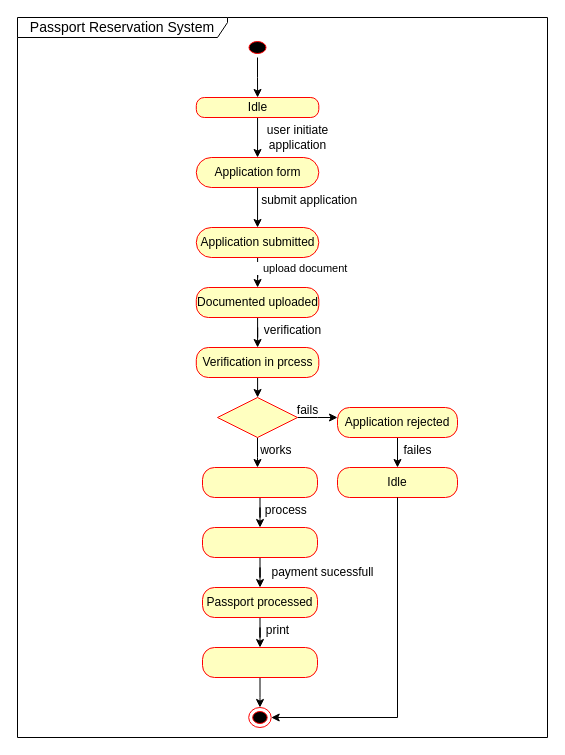
The diagram is 565 pixels wide and 755 high, and some of its shapes have lost their labels. Here are the shapes that lost their labels. From the top down, the centre of each, then its label:
At (x=257, y=417): "check".
At (x=260, y=482): "payment pending".
At (x=260, y=542): "Payment completed".
At (x=260, y=662): "Passport dispatched".
